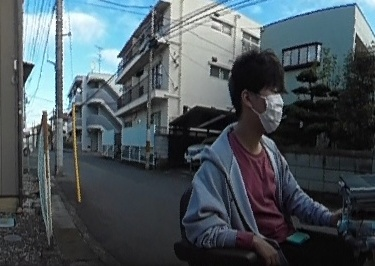person: (189, 53, 331, 266)
